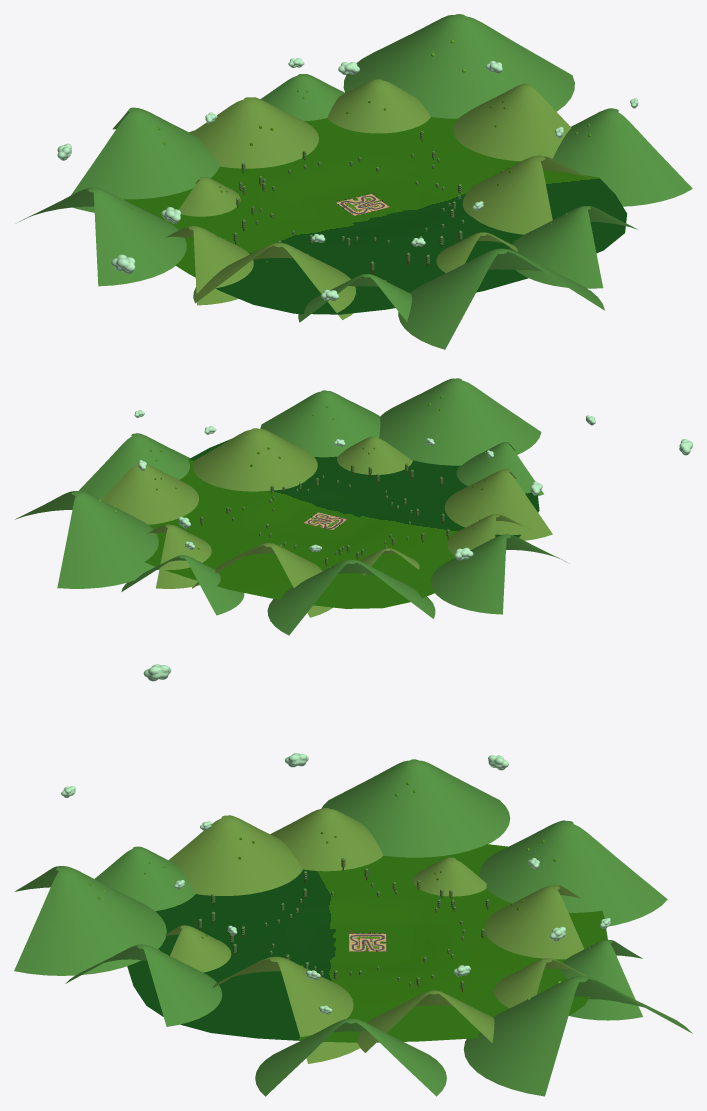
The model's file is track-transformed.glb.
The picture shows the model from 3 angles, top to bottom: view 1: azimuth 30°, elevation 25°; view 2: azimuth 150°, elevation 25°; view 3: azimuth 270°, elevation 25°; orthographic projection. The views are drawn at different scales.
Parts seen in each view (by area): view 1: Object_9; view 2: Object_9; view 3: Object_9.
Boxes of the visible parts, bbox=[...] form: Object_9: bbox=[16, 14, 692, 349]; Object_9: bbox=[15, 378, 692, 635]; Object_9: bbox=[14, 664, 692, 1096].
Bounding box in the file's own units: 82154 × 14928 × 73549.
Materials: 10 (10 with a texture image).
